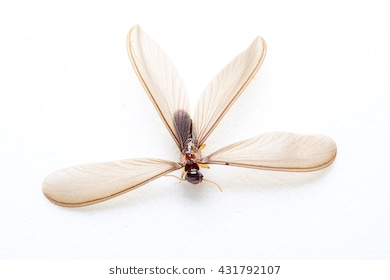flying termite: (16, 7, 359, 233)
